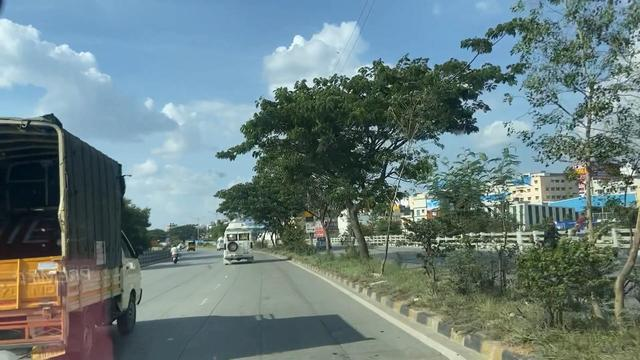HMV: (2, 120, 138, 360), (220, 221, 255, 265)
